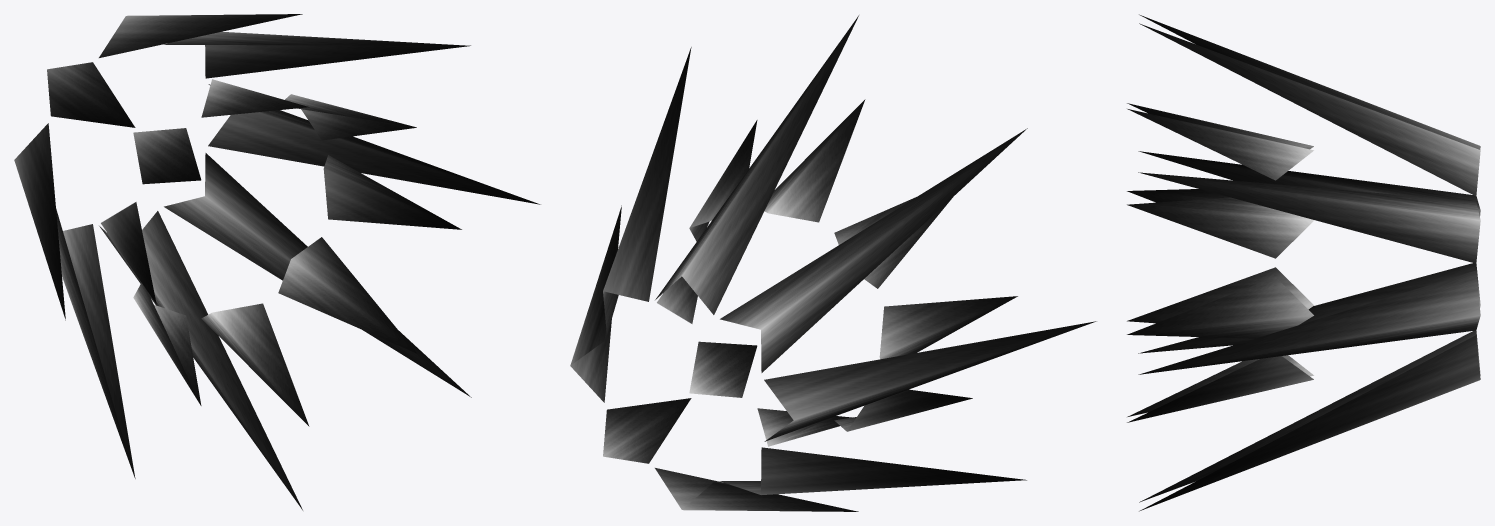
The model's file is linghunchangmao002.fbx.
The picture shows the model from 3 angles, left to right: view 1: azimuth 30°, elevation 25°; view 2: azimuth 150°, elevation 25°; view 3: azimuth 270°, elevation 25°; orthographic projection. The views are drawn at different scales.
Parts seen in each view (by area): view 1: linghunchangmao002; view 2: linghunchangmao002; view 3: linghunchangmao002.
Part boxes in pixels (x1=…): linghunchangmao002: x1=14, y1=14, x2=540, y2=510; linghunchangmao002: x1=570, y1=15, x2=1096, y2=511; linghunchangmao002: x1=1127, y1=14, x2=1480, y2=511.
Size of the model in its own units: 185 by 185 by 123.
